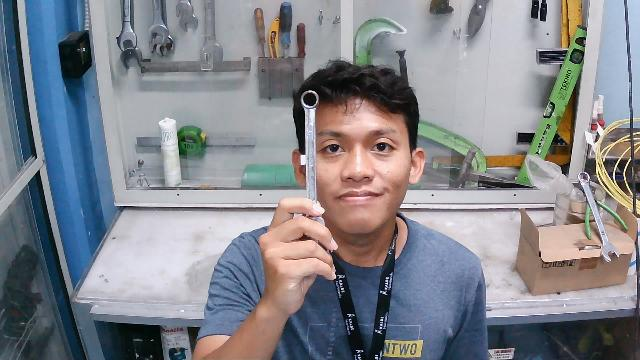kunci_pass_13: (285, 83, 338, 247)
